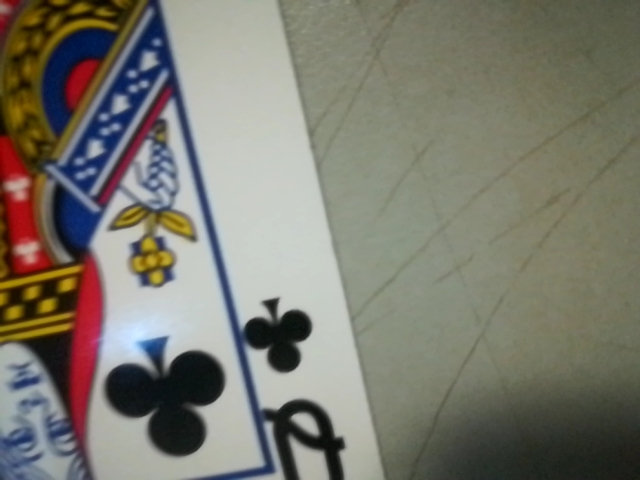mh q: (227, 295, 367, 480)
